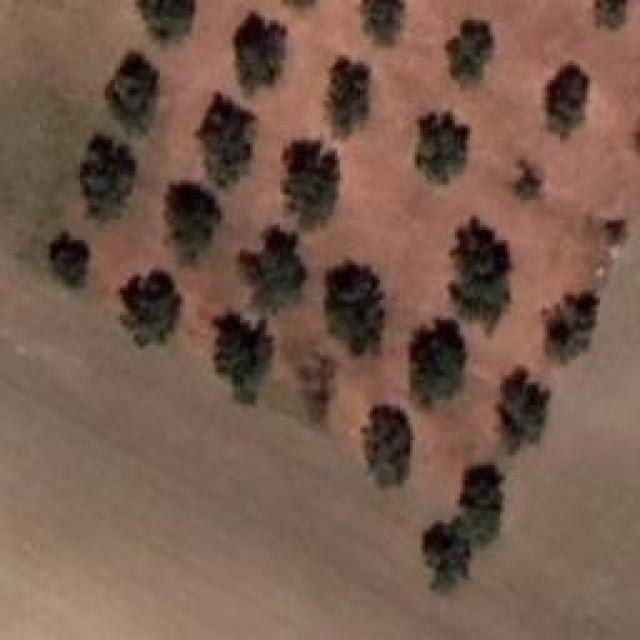Tree: (450, 218, 513, 330), (240, 225, 308, 312), (195, 93, 256, 186), (325, 260, 384, 355), (213, 313, 273, 405), (282, 140, 340, 226), (80, 135, 136, 222), (410, 320, 465, 407), (165, 182, 224, 262), (120, 270, 181, 347), (498, 368, 551, 454), (105, 52, 159, 132), (235, 12, 289, 92), (460, 460, 510, 546), (363, 405, 414, 487), (543, 294, 599, 364), (415, 113, 469, 185), (423, 517, 473, 592), (328, 55, 371, 137), (548, 65, 591, 138), (448, 20, 494, 87), (138, 0, 195, 42), (50, 233, 90, 289), (362, 0, 403, 44), (515, 160, 544, 200), (593, 0, 625, 28), (605, 220, 626, 246)
